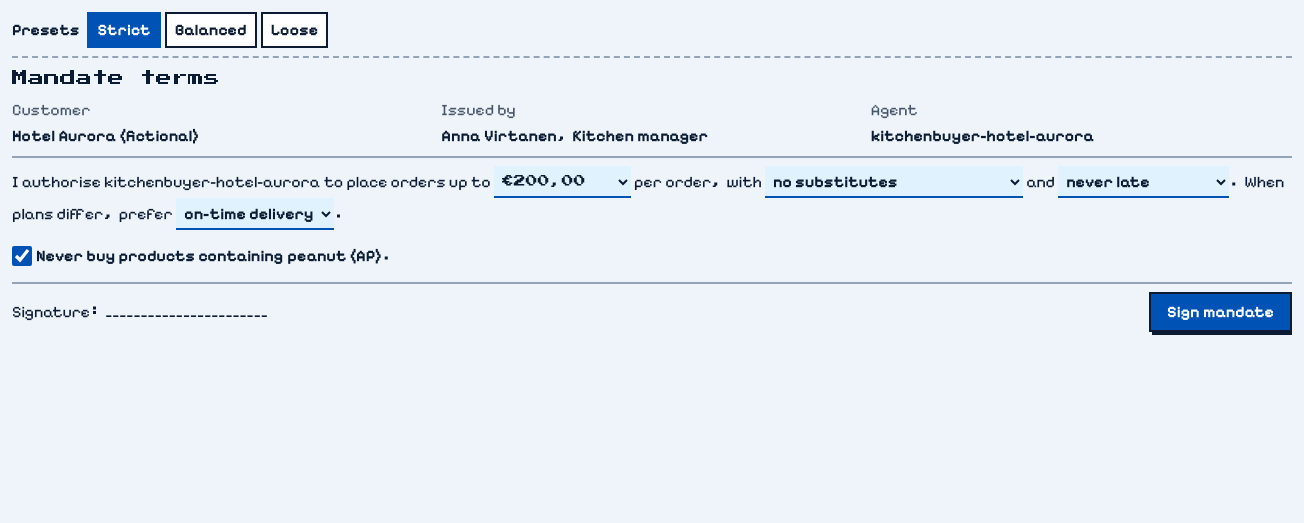
mandate screen › renders native controls and signs using the returned mandate summary
Expected: the heading "Mandate terms" is shown, left=12, top=70, right=220, bottom=86
Expected: the dropdown named "per-order limit" is shown, left=494, top=166, right=631, bottom=198
Click the button "Sign mandate" at [1221, 312], box left=1149, top=292, right=1292, bottom=332
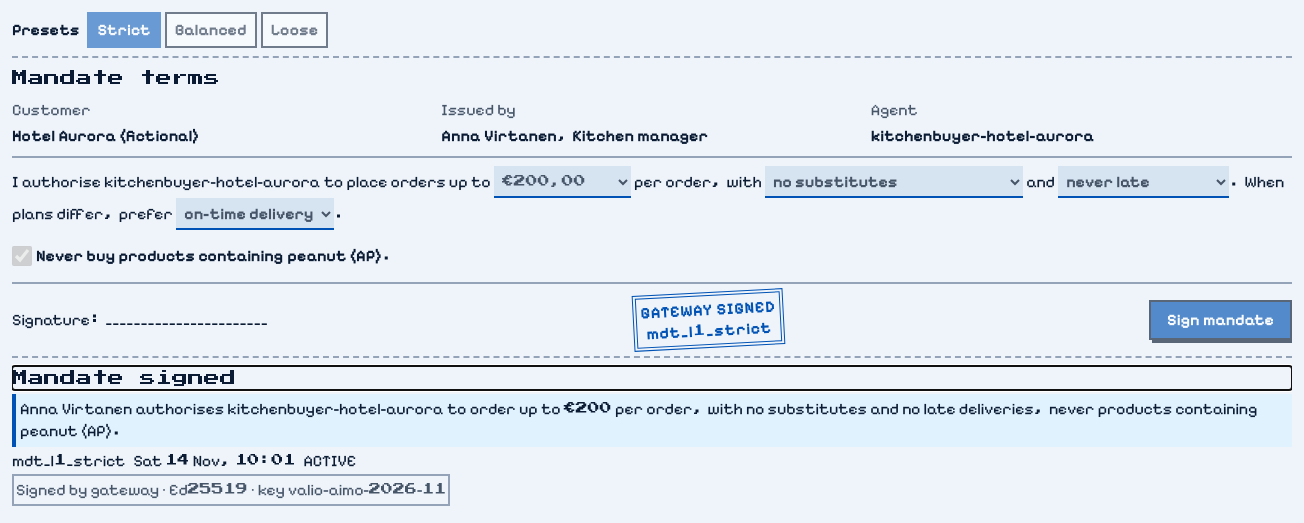
Expected: the text "Anna Virtanen authorises kitchenbuyer-hotel-aurora to order up to €200 per order, with no substitutes and no late delive" is shown, left=20, top=399, right=1257, bottom=440
